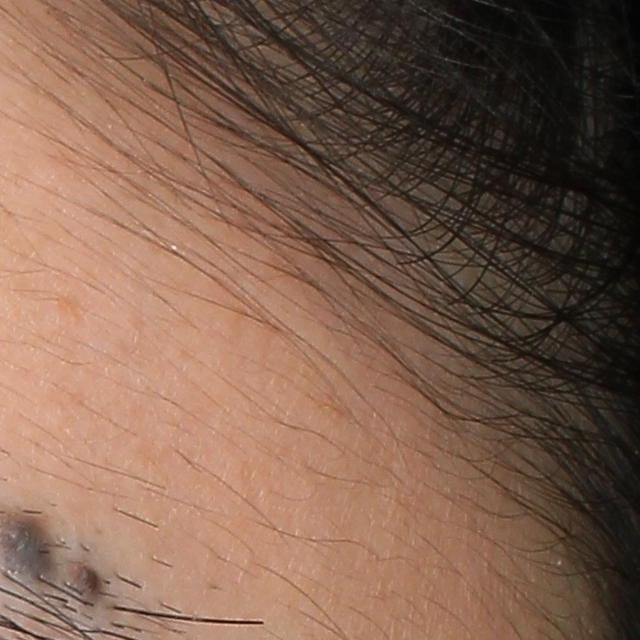nevus: (76, 566, 108, 604)
